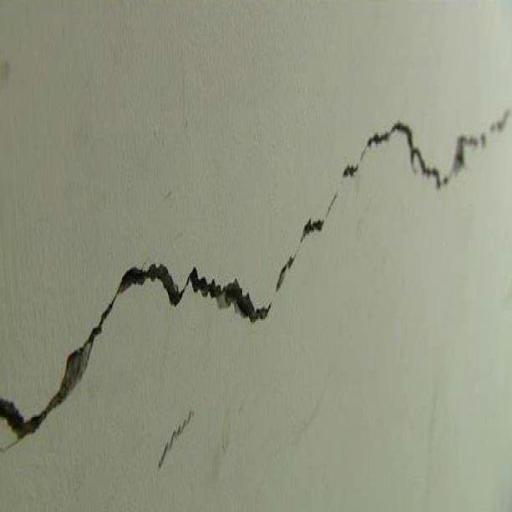spalling: (4, 105, 507, 440)
